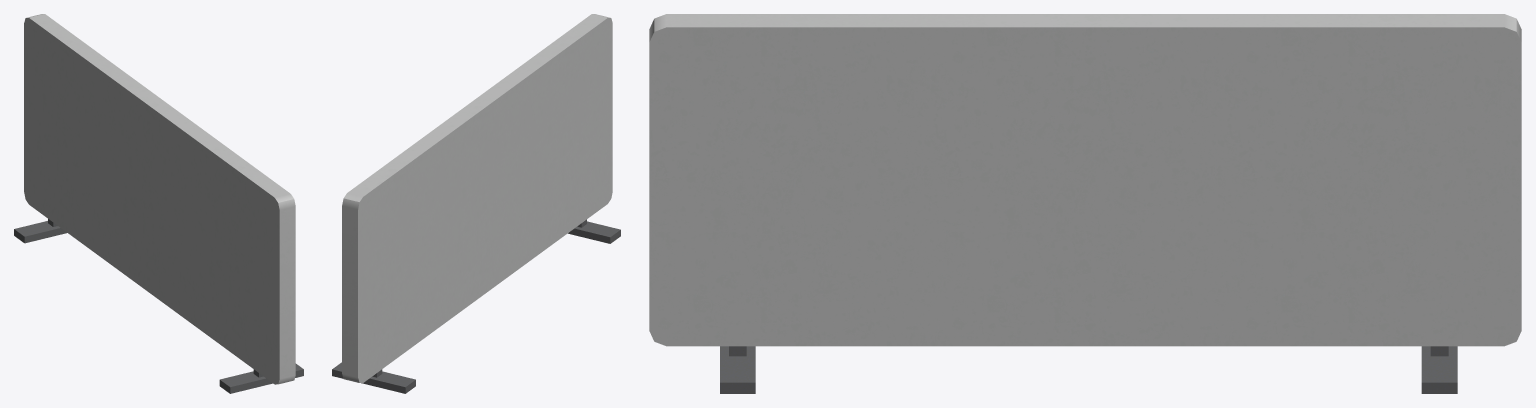
The model's file is SM_cubicle_divider_300.fbx.
3 views of the same model, side by side, from view 1: azimuth 30°, elevation 25°; view 2: azimuth 150°, elevation 25°; view 3: azimuth 270°, elevation 25° (orthographic). The views are drawn at different scales.
Visible parts, largest first — view 1: sss:Mesh, Mesh; view 2: sss:Mesh, Mesh; view 3: sss:Mesh, Mesh.
Part boxes in pixels (left/top/right/bottom): sss:Mesh: left=24, top=14, right=295, bottom=384; Mesh: left=14, top=219, right=303, bottom=393; sss:Mesh: left=342, top=14, right=612, bottom=383; Mesh: left=332, top=219, right=620, bottom=393; sss:Mesh: left=649, top=14, right=1521, bottom=346; Mesh: left=720, top=346, right=1457, bottom=393.
Bounding box in the file's own units: 0.4992 × 1.3 × 3.
